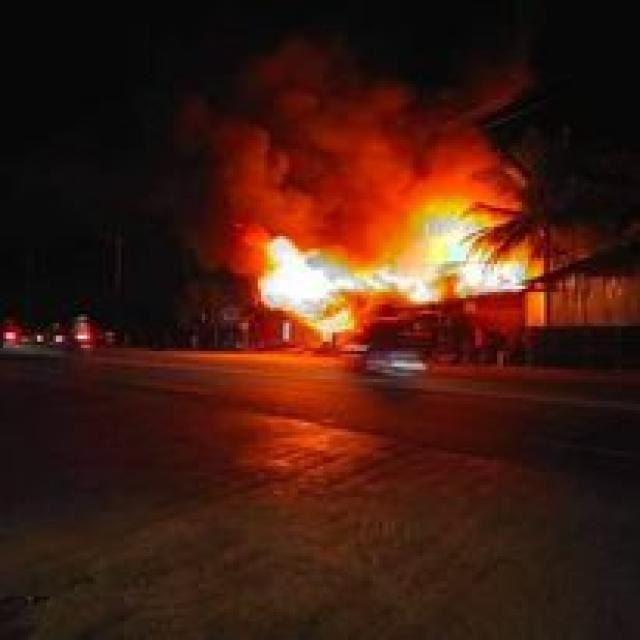Fire: (386, 212, 540, 309), (255, 230, 358, 343)
Smoke: (179, 32, 513, 225)
